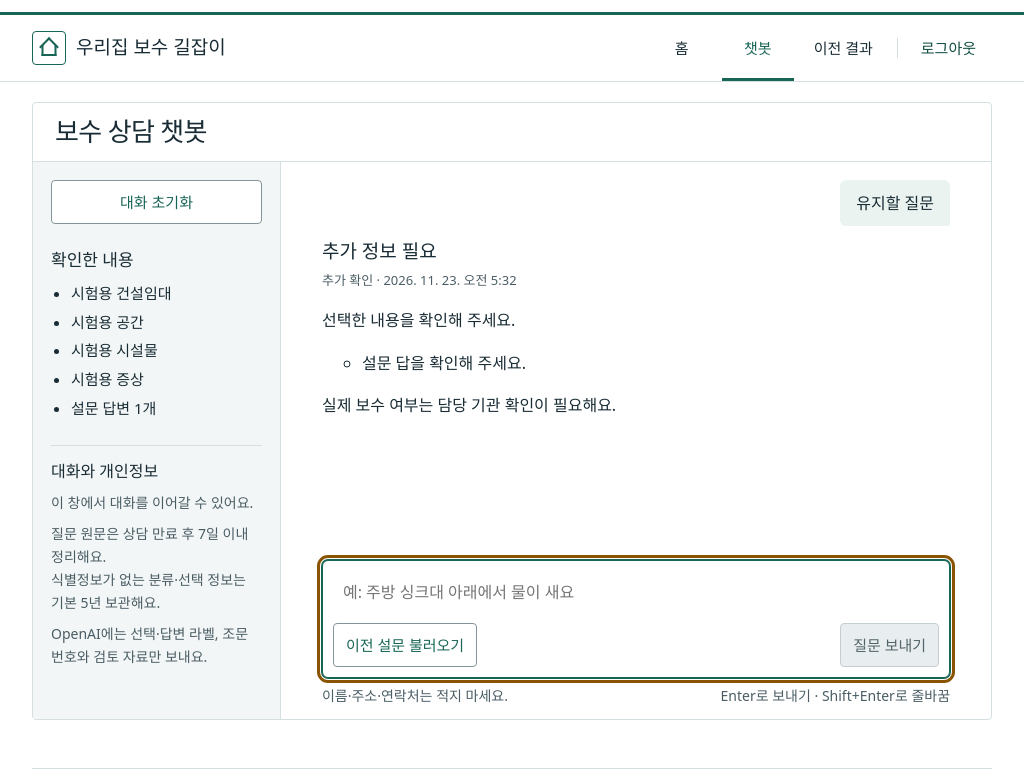
Scenario: keeps the old conversation when reset is busy or deletion fails
Click the button "대화 초기화". click: (156, 202)
box: [51,180,262,224]
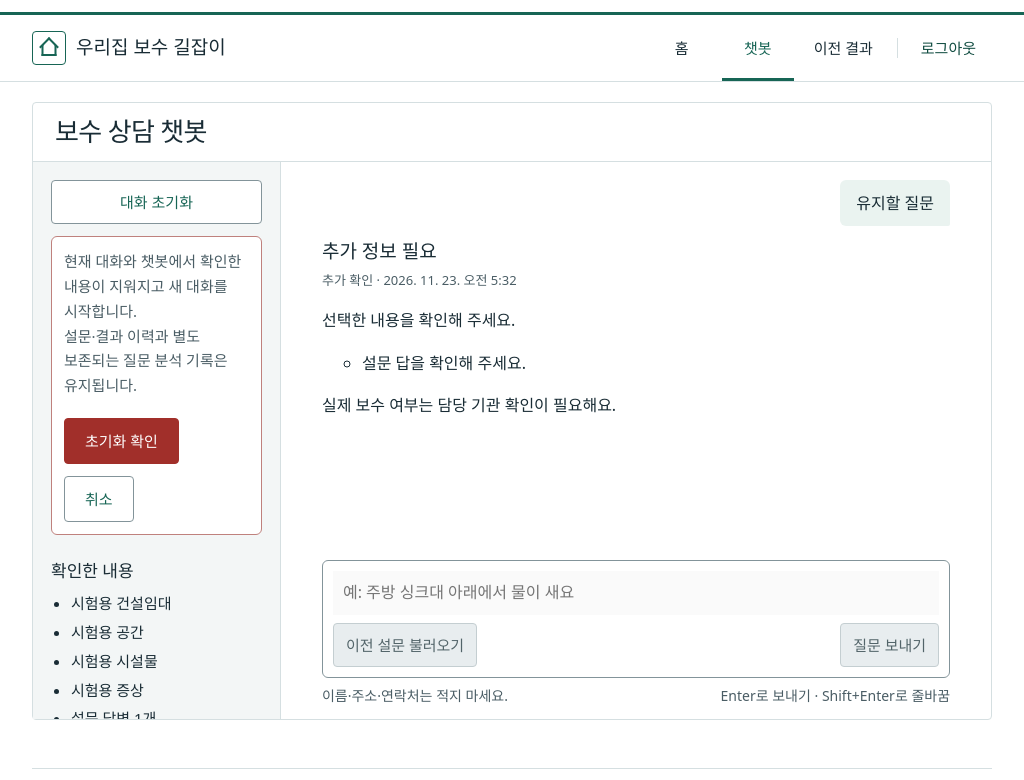
Click the button "초기화 확인". click: (121, 441)
box: [64,418,179,464]
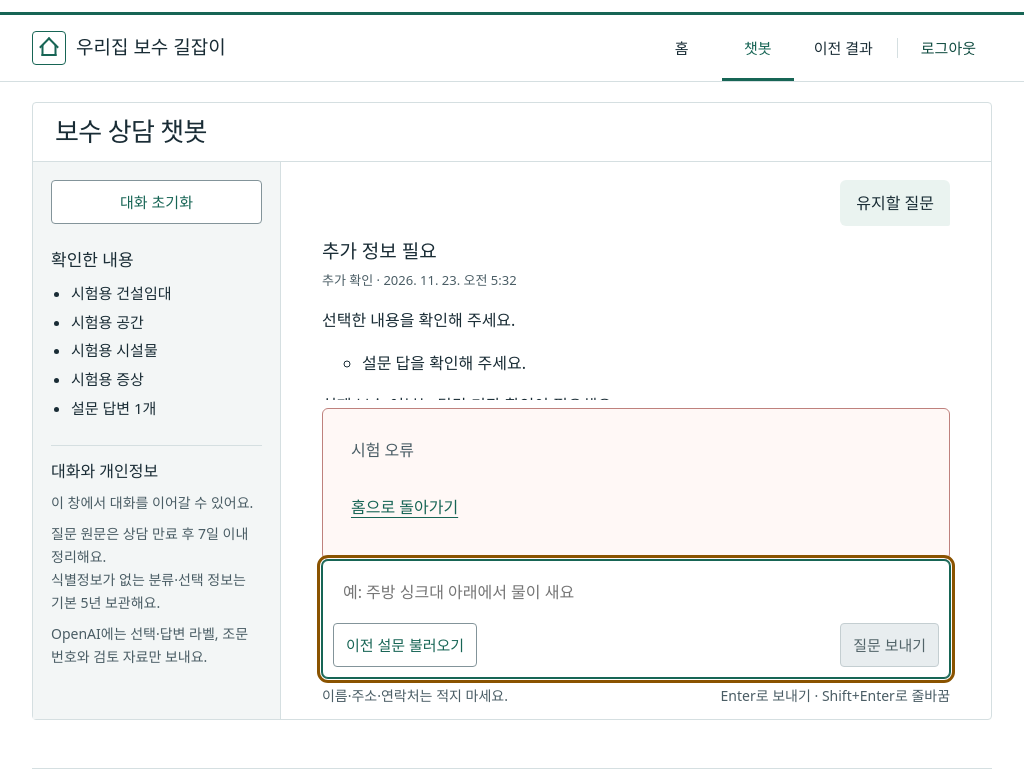
Check: the text "유지할 질문" is shown, box [840,180,950,226]
Check: the text "시험 오류" is shown, box [351,438,414,460]
